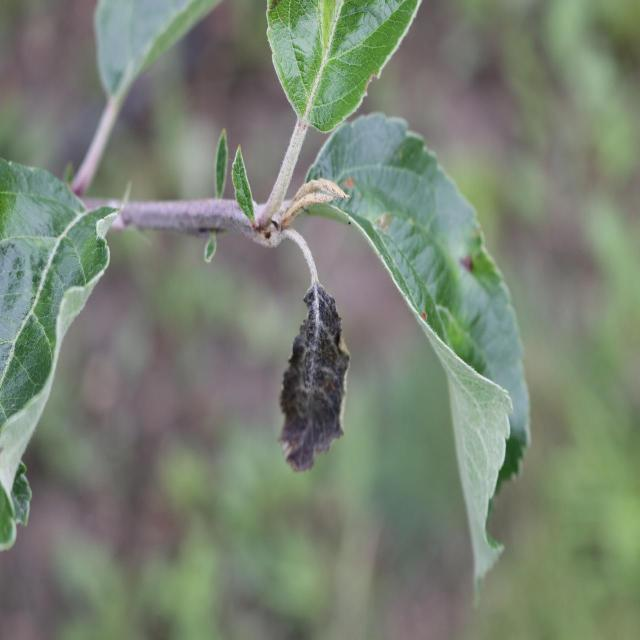-FireBlight-: (267, 261, 365, 486)
